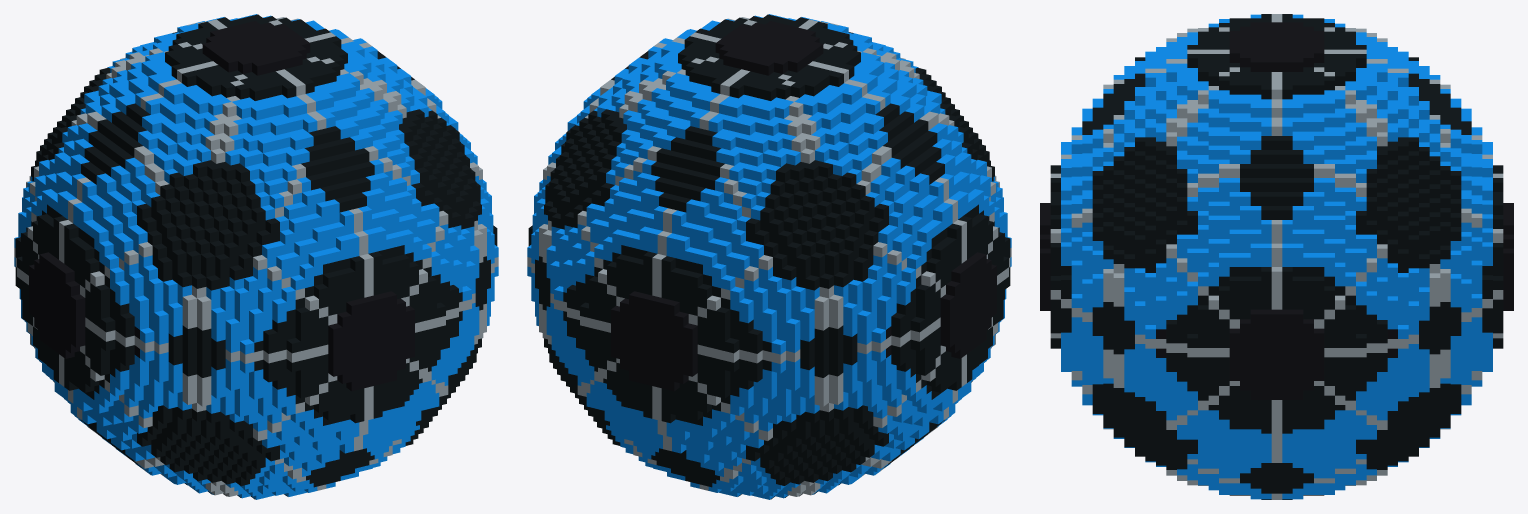
Rendered from Ball.obj.
3 renders of one model, left to right at view 1: azimuth 30°, elevation 25°; view 2: azimuth 150°, elevation 25°; view 3: azimuth 270°, elevation 25°, orthographic.
Size of the model in its own units: 45 by 45 by 45.
1 material, 1 textured.
